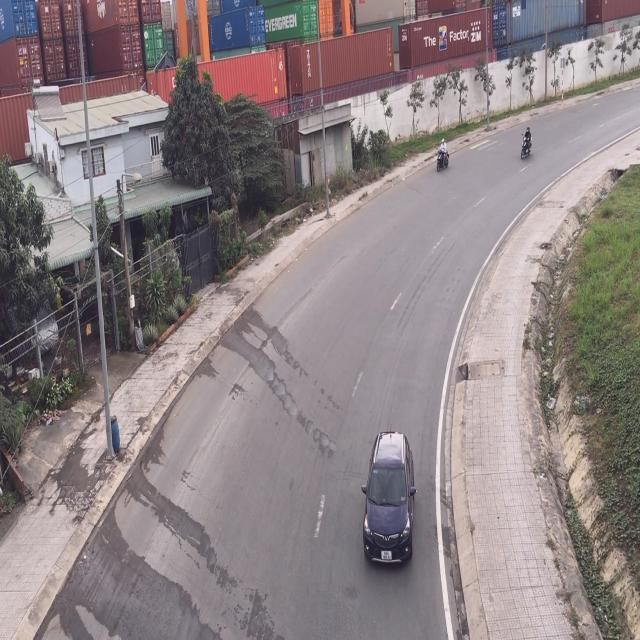car: (364, 429, 418, 565)
motorbike: (436, 133, 452, 174), (520, 125, 534, 162)
